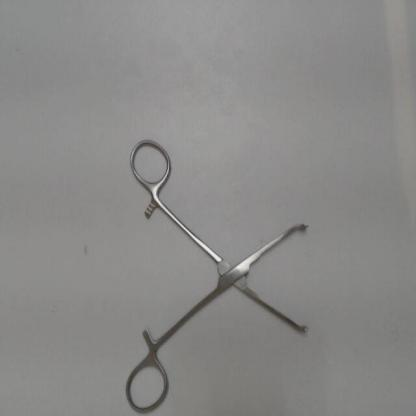Allis Tissue Forceps: (122, 131, 317, 415)
